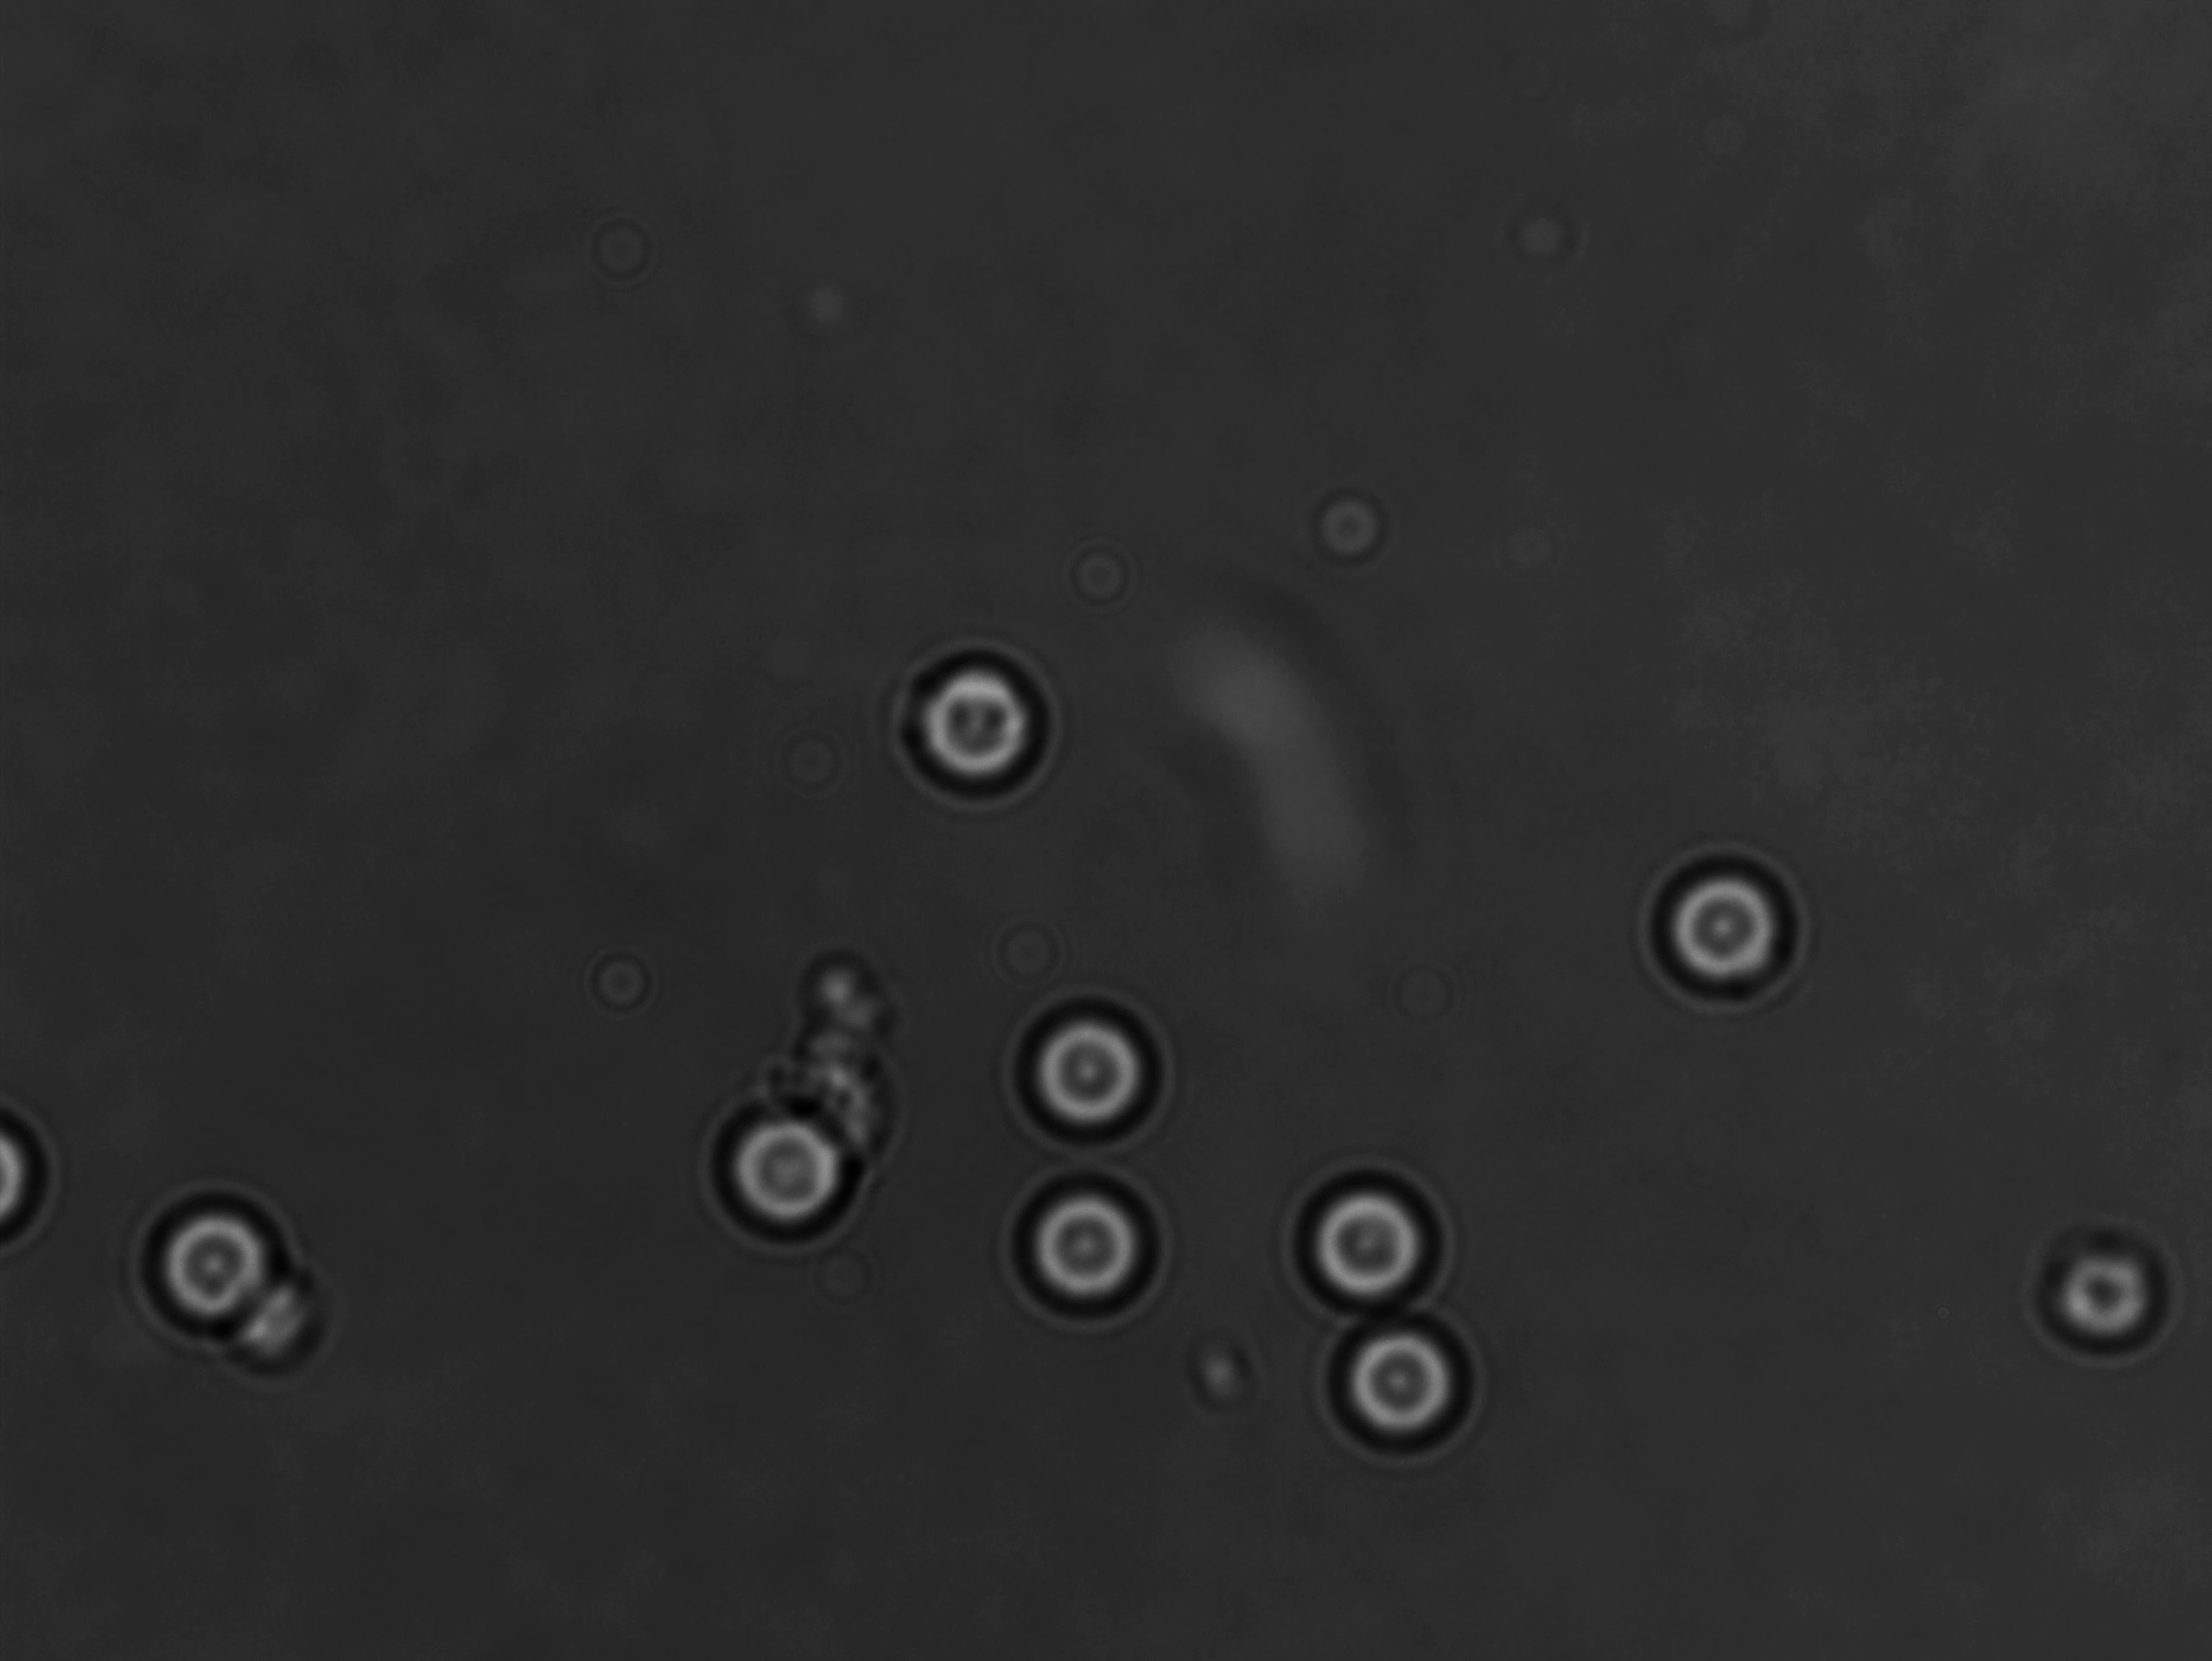depth:20: (888, 625, 1057, 813), (1003, 974, 1181, 1150), (1631, 841, 1792, 1031), (994, 1153, 1176, 1317), (700, 1075, 865, 1251), (1282, 1153, 1451, 1323), (127, 1190, 297, 1356), (1312, 1302, 1474, 1457)
